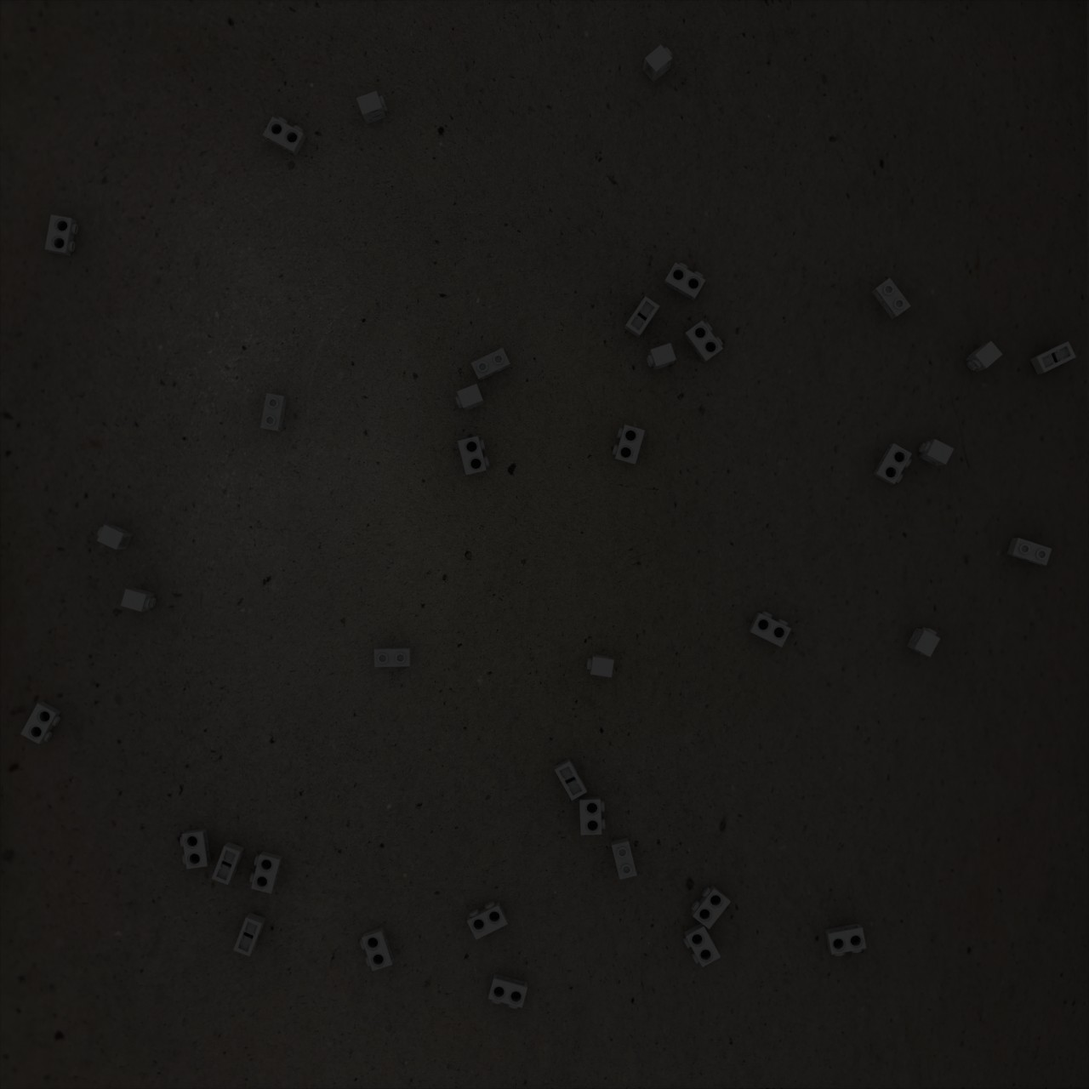lego: (20, 701, 61, 744), (691, 885, 731, 929), (262, 116, 306, 156), (683, 922, 721, 967), (871, 278, 911, 320), (684, 320, 723, 363), (663, 262, 706, 301), (873, 443, 912, 485), (467, 901, 508, 940), (748, 611, 791, 648), (1030, 341, 1076, 375), (624, 296, 660, 338), (360, 927, 394, 971), (233, 912, 266, 957), (211, 842, 245, 885), (249, 851, 283, 894), (488, 973, 528, 1009), (554, 758, 587, 801), (45, 214, 78, 256), (825, 923, 866, 956), (612, 424, 645, 465), (471, 348, 511, 381), (457, 436, 490, 476), (1006, 538, 1052, 566), (180, 828, 211, 869), (642, 44, 673, 83), (965, 341, 1003, 372), (611, 837, 637, 880), (356, 91, 388, 124), (260, 393, 287, 432), (906, 627, 941, 657), (579, 796, 605, 835), (918, 439, 954, 466), (97, 525, 133, 550), (121, 588, 156, 612), (646, 343, 676, 371), (455, 384, 485, 411), (374, 647, 412, 667), (586, 654, 614, 678)
